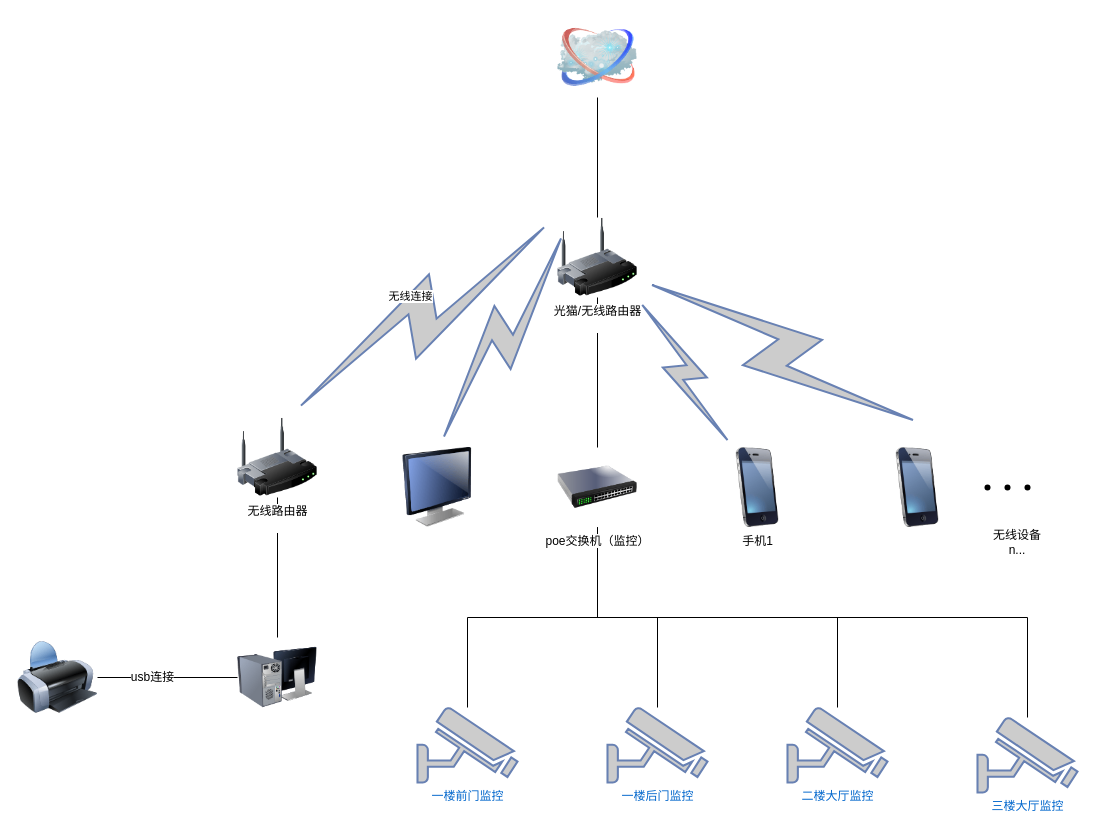
Image size: 1095x830. Some labels were removed from this diagram. Each missing label, with the centre of its shape:
"一楼电视" belongs at pixel 437 487.
"二楼电脑" belongs at pixel 277 677.
"互联网" belongs at pixel 597 57.
"手机2" belongs at pixel 917 487.
